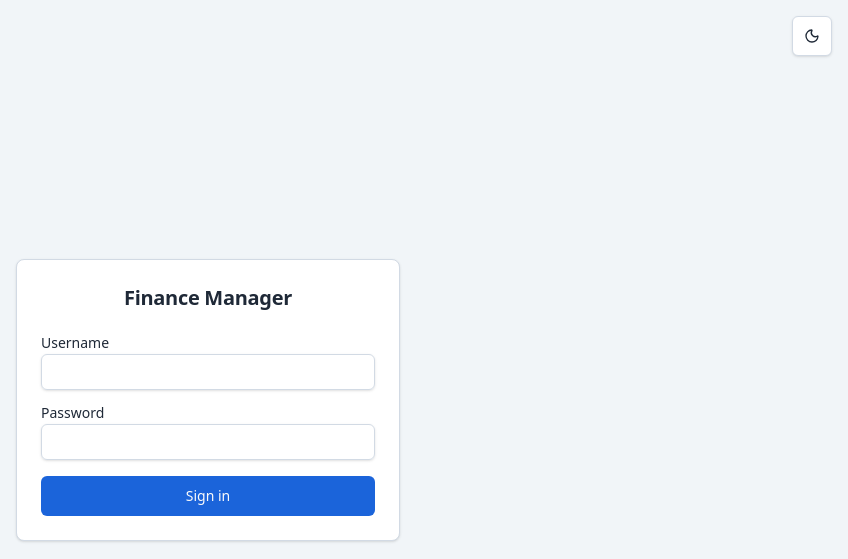
Test: LoginPage — loading state (Req 1.4) › disables the submit button while request is in progress
This screenshot has width=848, height=559.
Type "admin" into the field labelled "Username" at point(208, 372), box x1=41 y1=354 x2=375 y2=390
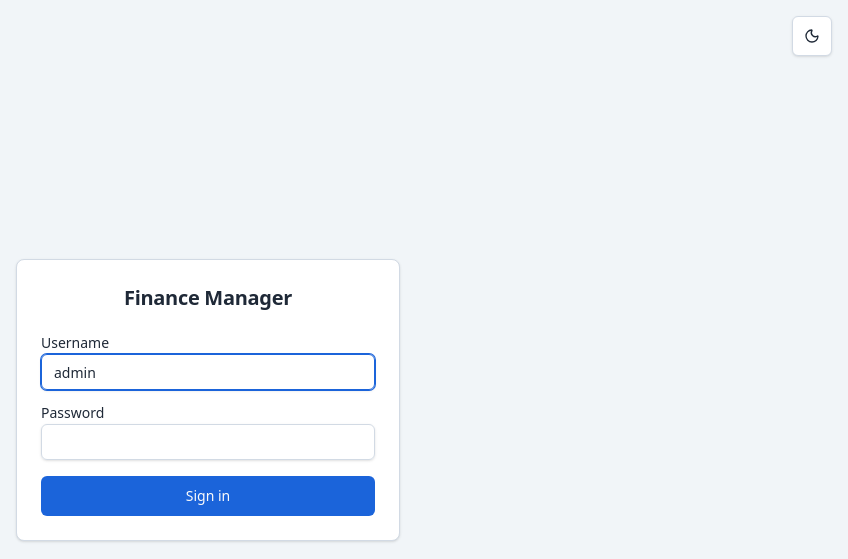
Type "SecurePass1" into the password field labelled "Password" at point(208, 442), box x1=41 y1=424 x2=375 y2=460
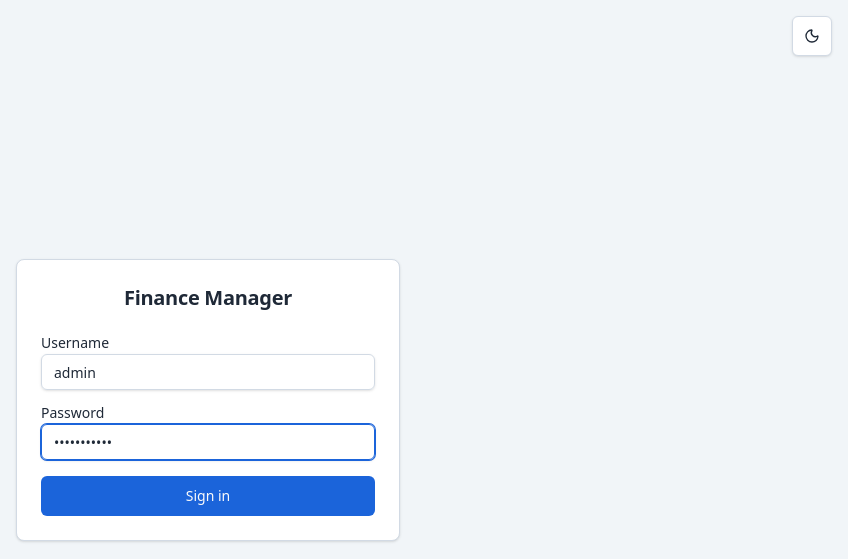
Click the button "Sign in" at point(208, 496), box x1=41 y1=476 x2=375 y2=516
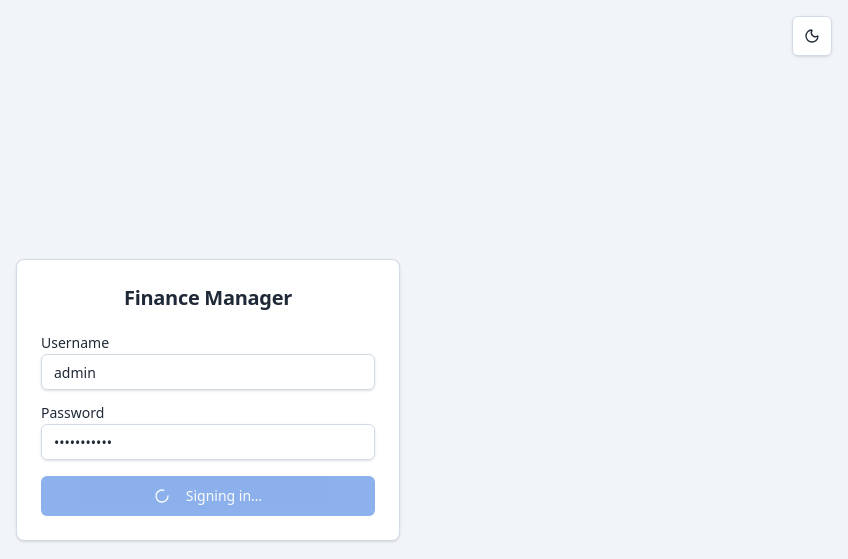
Now the button "Signing in…" is disabled, box x1=41 y1=476 x2=375 y2=516
